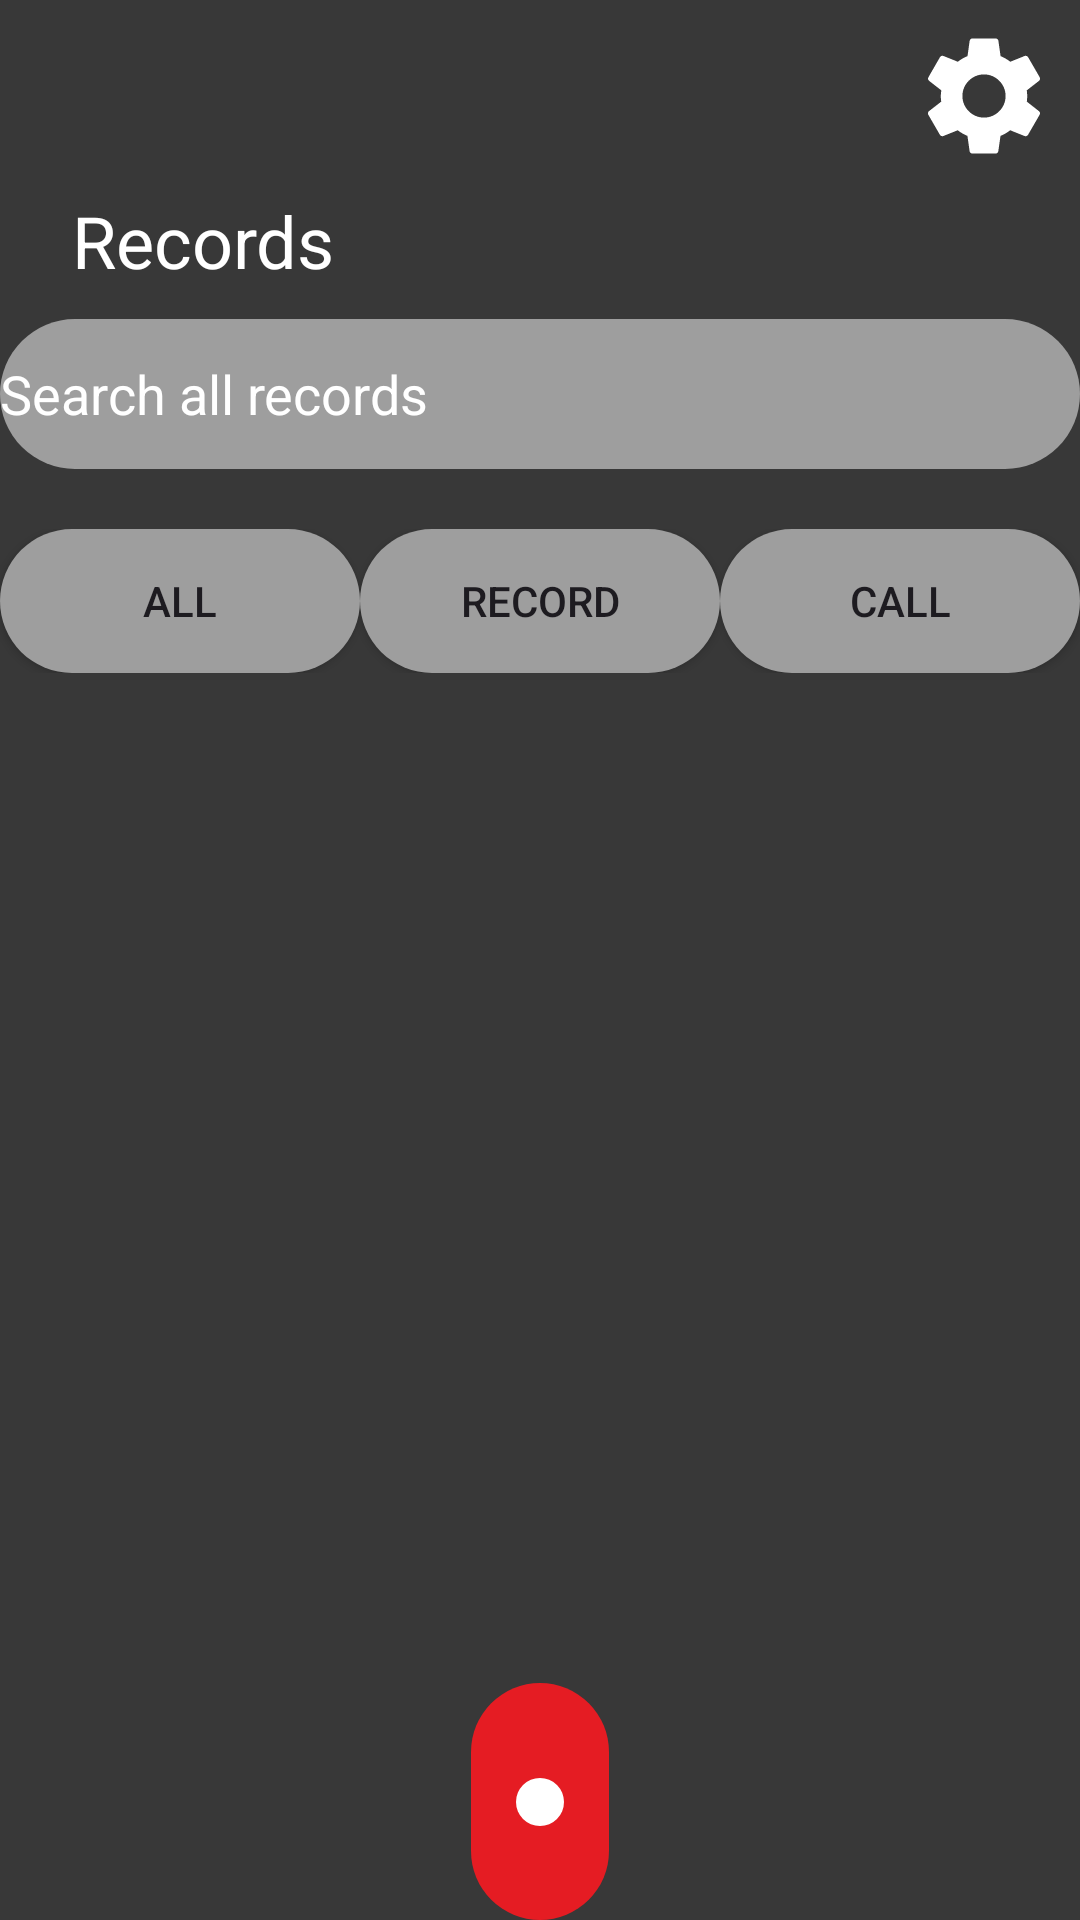

Point at icon controls on the screen. Image size 1080px x 1920px, points as point (x, y).
fiber manual record: point (540, 1801)
settings: point (984, 96)
